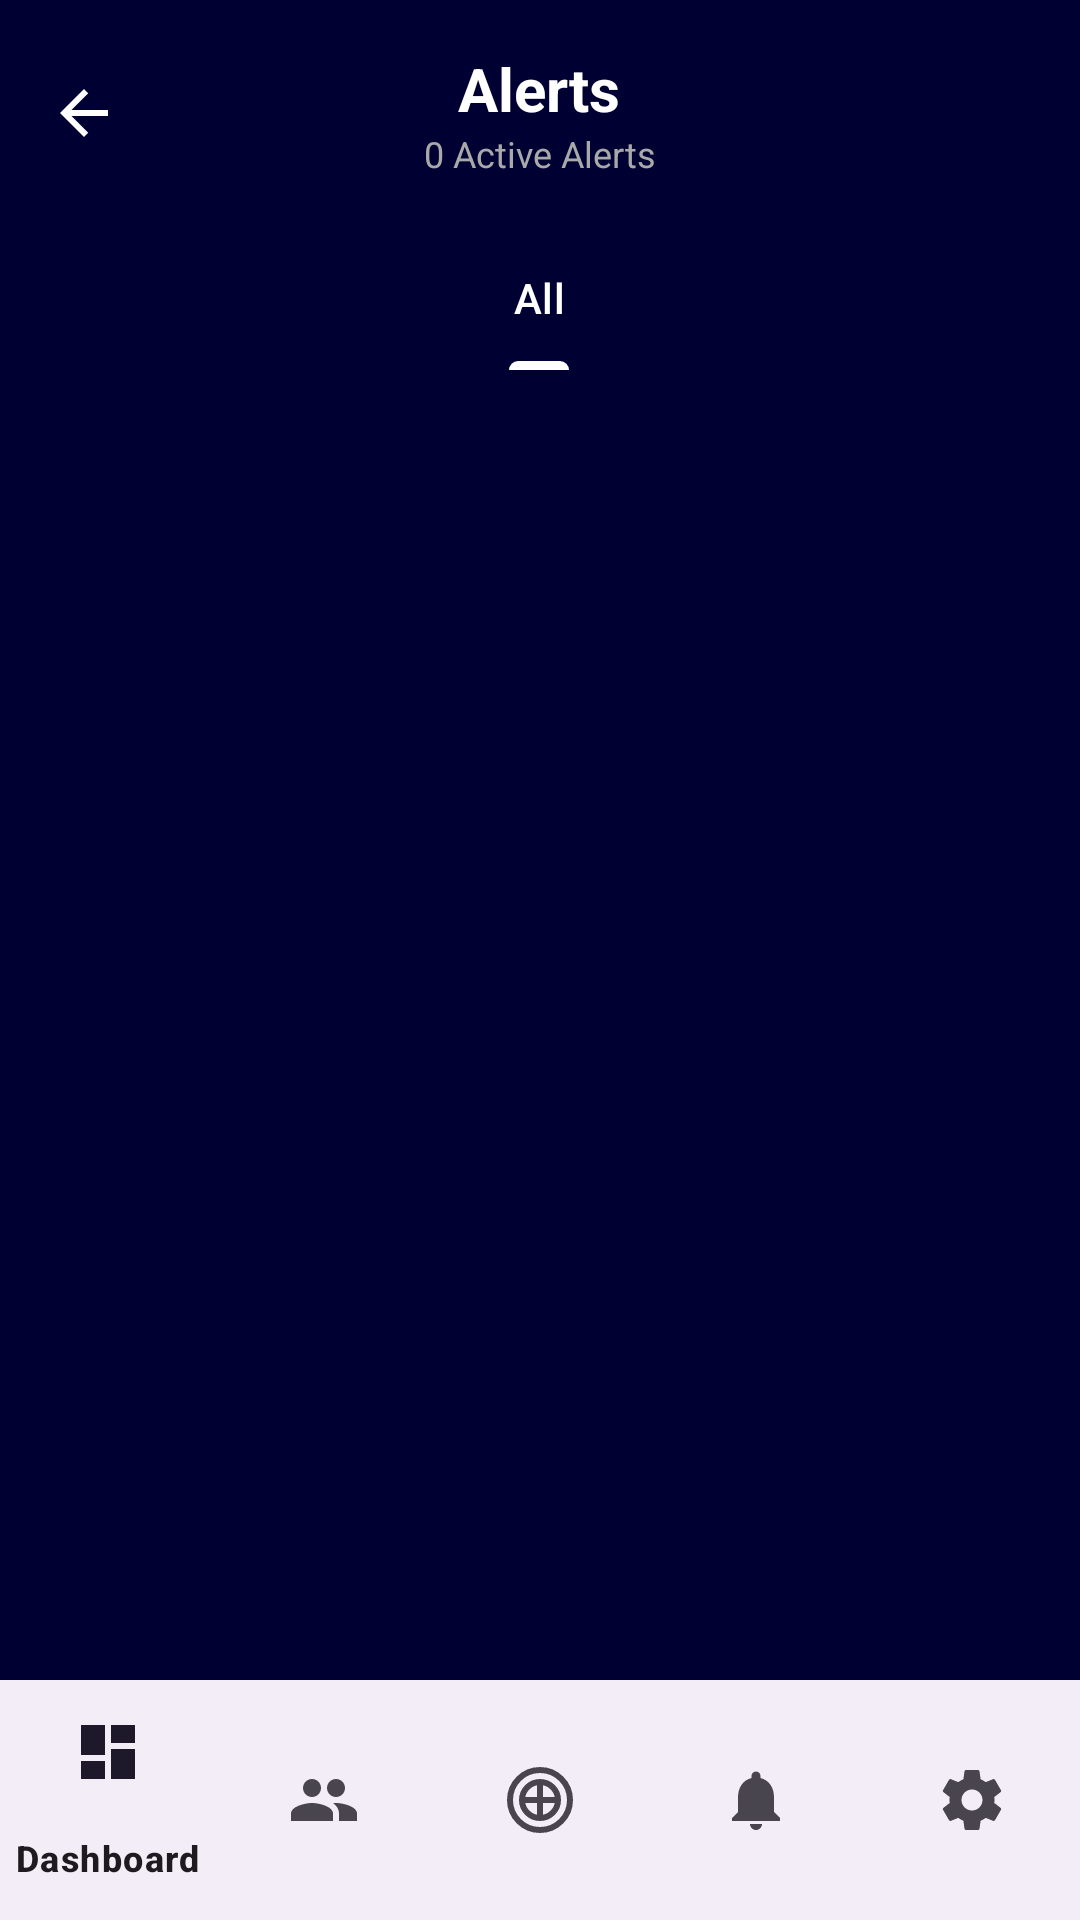

Icon click points for this 1080px×1920px phone screenshot, format (x,y):
arrow back: (84,113)
